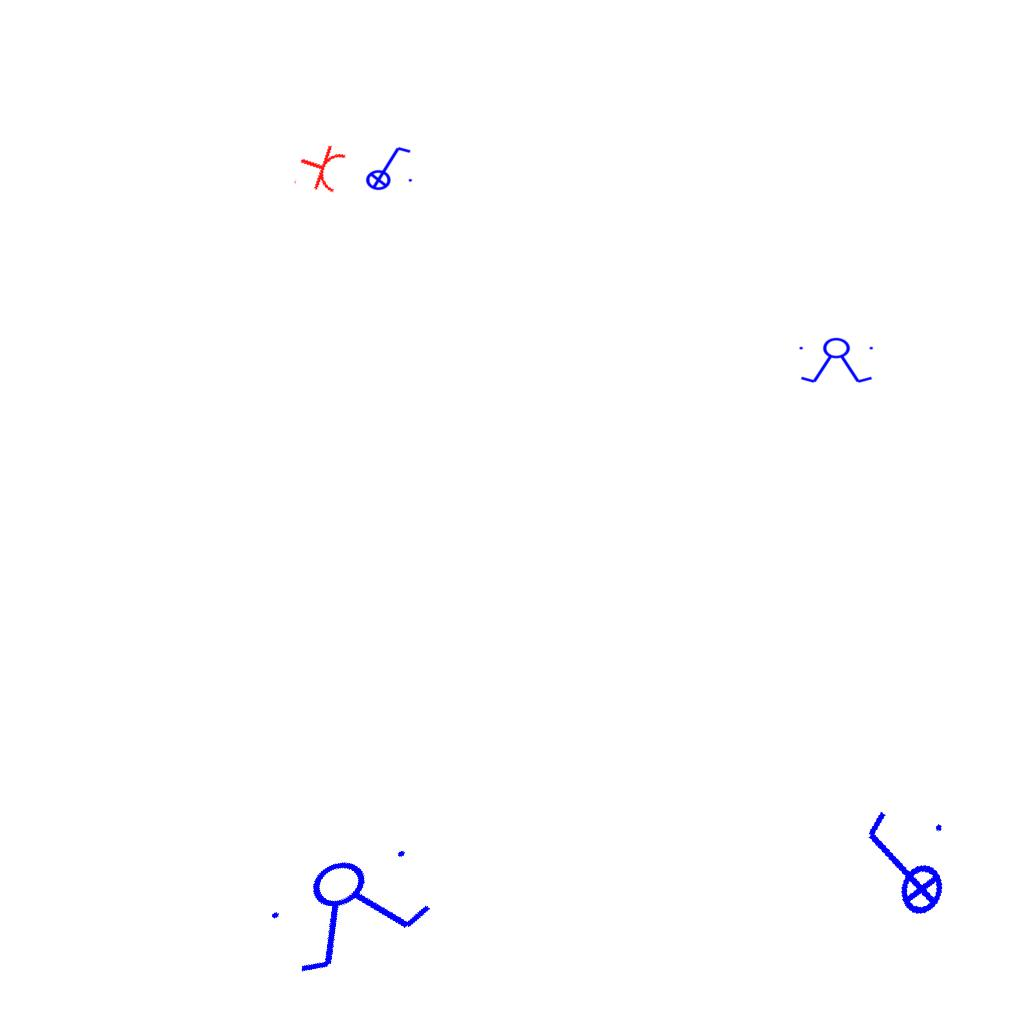Ausschalter_beleuchtet: (840, 799, 962, 933), (359, 143, 415, 191)
Schukosteckdose_einfach: (292, 137, 349, 199)
Serienschalter: (254, 827, 448, 987), (795, 337, 879, 385)
